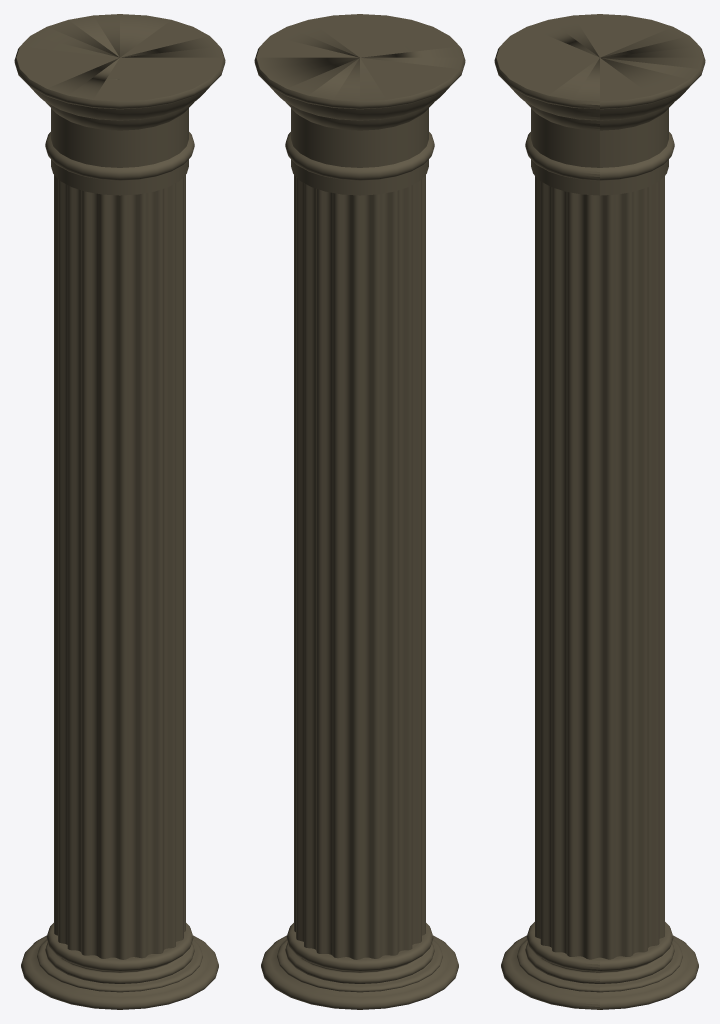
The model's file is Column2.FBX.
The picture shows the model from 3 angles, left to right: view 1: azimuth 30°, elevation 25°; view 2: azimuth 150°, elevation 25°; view 3: azimuth 270°, elevation 25°; orthographic projection.
Parts seen in each view (by area): view 1: Line06; view 2: Line06; view 3: Line06.
Boxes of the visible parts, left/top/right/bottom form: Line06: left=14, top=14, right=225, bottom=1009; Line06: left=254, top=14, right=465, bottom=1009; Line06: left=494, top=14, right=705, bottom=1009.
Bounding box in the file's own units: 464 × 2211 × 464.
